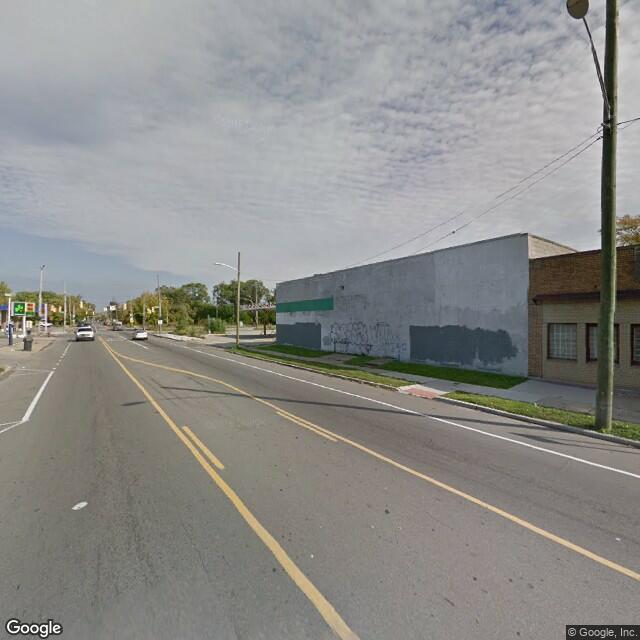litter: (533, 400, 539, 409), (9, 348, 16, 353), (20, 365, 26, 369)
